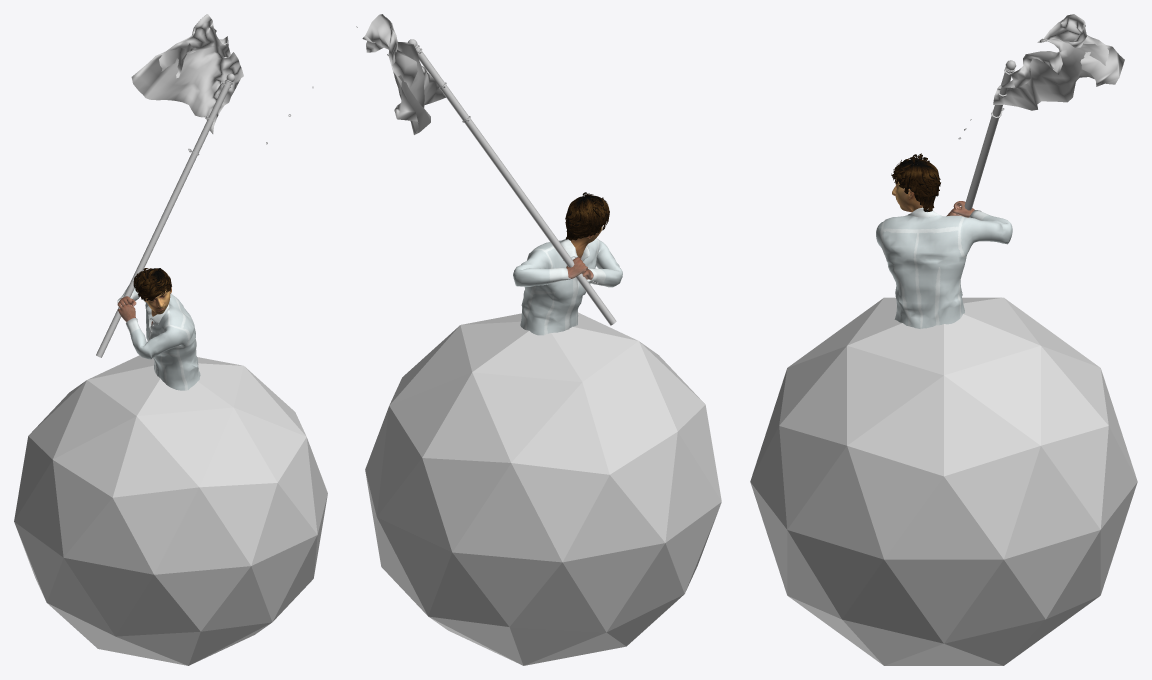
Rendered from oren_flag_v5.fbx_Scene.fbx.
3 renders of one model, left to right at view 1: azimuth 30°, elevation 25°; view 2: azimuth 150°, elevation 25°; view 3: azimuth 270°, elevation 25°, orthographic. The views are drawn at different scales.
Parts seen in each view (by area): view 1: Icosphere, Object_12, Tops, FlagPole_FlagPole1_0, Object001; view 2: Icosphere, Tops, Object_12, FlagPole_FlagPole1_0, Object001; view 3: Icosphere, Tops, Object_12, Object001, FlagPole_FlagPole1_0.
Part boxes in pixels (box(x1,y1,x2,y2)): Icosphere: box(14, 355, 327, 665); Object_12: box(131, 14, 243, 133); Tops: box(117, 286, 200, 390); FlagPole_FlagPole1_0: box(96, 73, 234, 357); Object001: box(133, 268, 171, 300); Icosphere: box(365, 312, 721, 665); Tops: box(513, 238, 622, 335); Object_12: box(362, 14, 445, 134); FlagPole_FlagPole1_0: box(407, 39, 616, 325); Object001: box(565, 192, 609, 240); Icosphere: box(750, 297, 1137, 665); Tops: box(876, 207, 1012, 328); Object_12: box(993, 14, 1124, 110); Object001: box(891, 153, 940, 211); FlagPole_FlagPole1_0: box(964, 60, 1016, 217).
Bounding box in the file's own units: 206 × 397 × 200.
